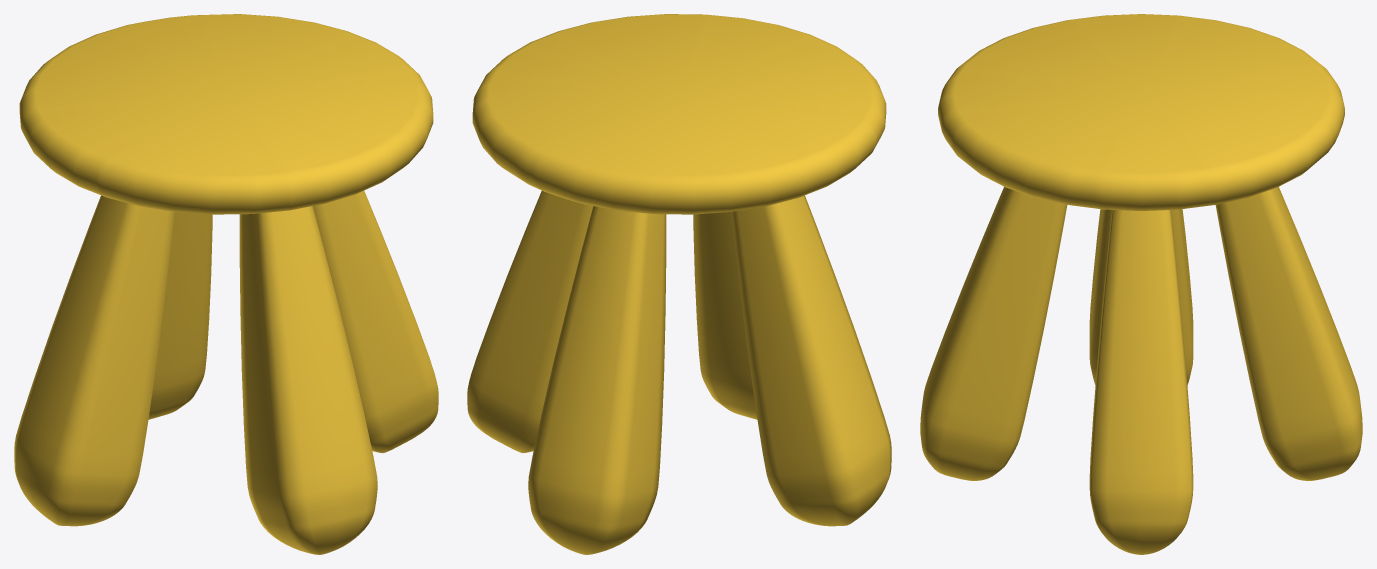
Rendered from SM_Chair.fbx.
3 views of the same model, side by side, from view 1: azimuth 30°, elevation 25°; view 2: azimuth 150°, elevation 25°; view 3: azimuth 270°, elevation 25° (orthographic).
Visible parts, largest first — view 1: SM_Chair; view 2: SM_Chair; view 3: SM_Chair.
Part boxes in pixels (box(x1,y1,x2,y2)): SM_Chair: box(14, 14, 438, 554); SM_Chair: box(467, 14, 891, 554); SM_Chair: box(920, 14, 1362, 554).
Bounding box in the file's own units: 218 × 207 × 218.
